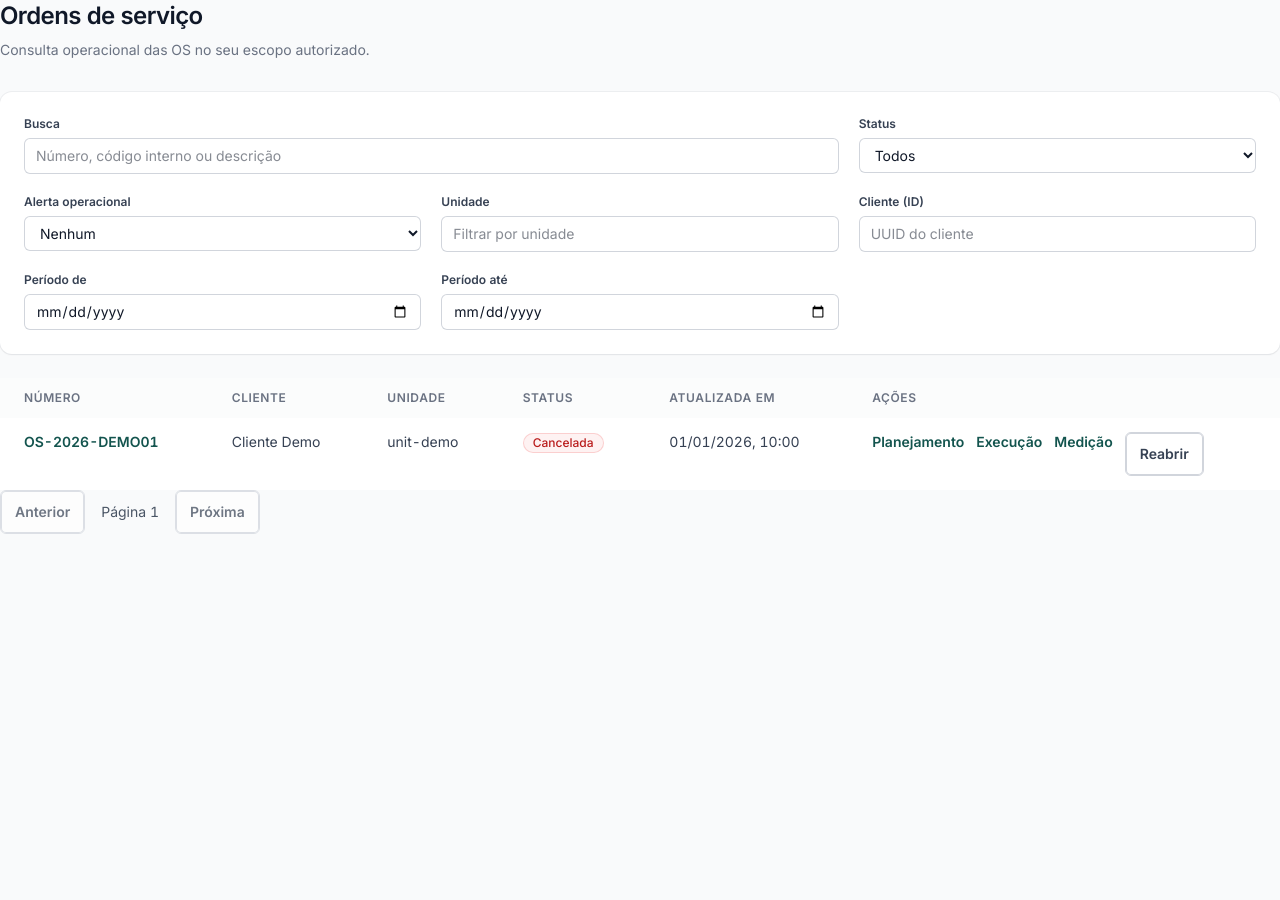
Scenario: ServiceOrdersListPage › reopens a cancelled order back to its previous status
Click the button "Reabrir": coordinates (1164, 454) top-left (1125, 432), bottom-right (1204, 476)
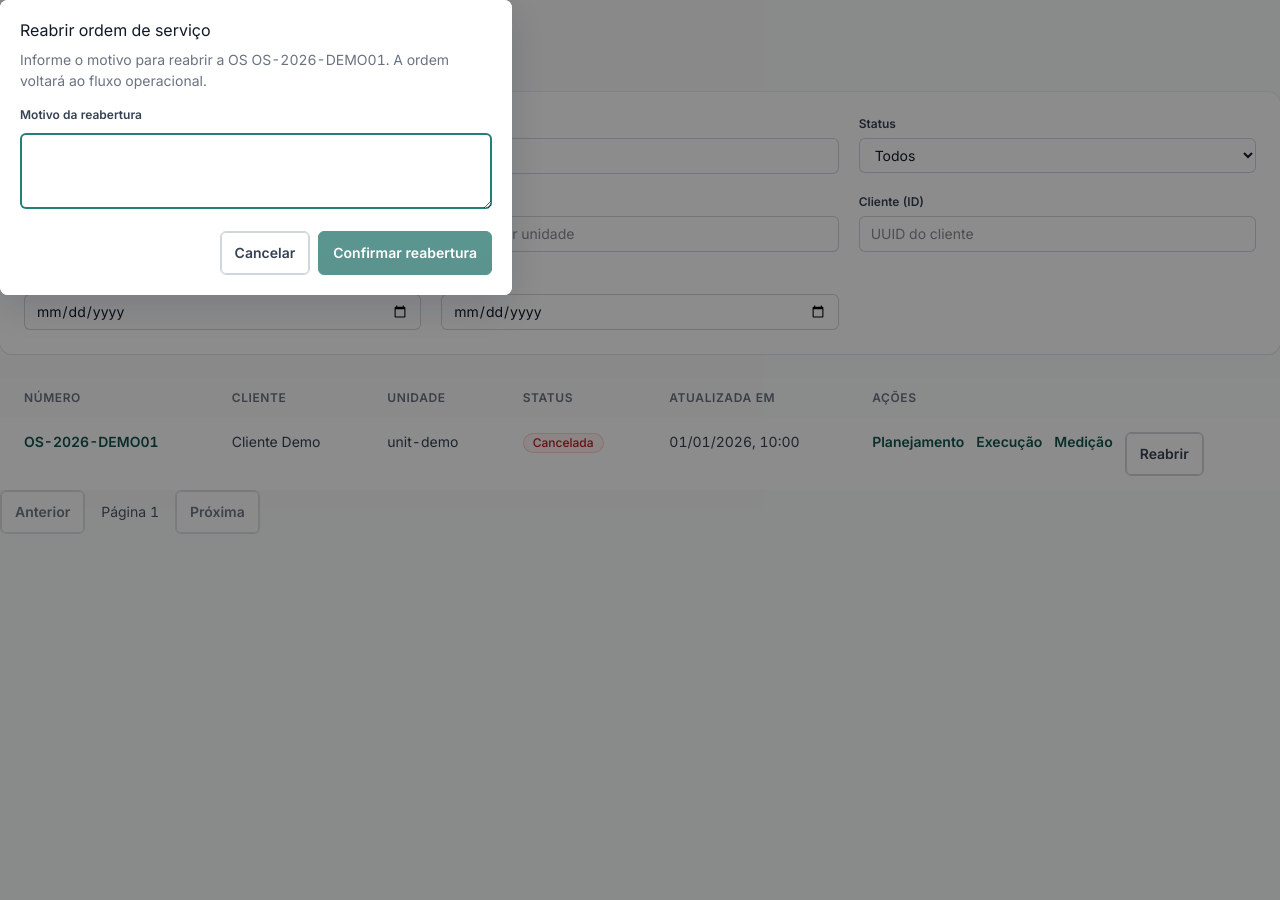
Now the button "Confirmar reabertura" is disabled, box top-left (318, 231), bottom-right (492, 275)
In the text box labelled "Motivo da reabertura": coordinates (256, 171) top-left (20, 133), bottom-right (492, 209), type "Retomada da operação"
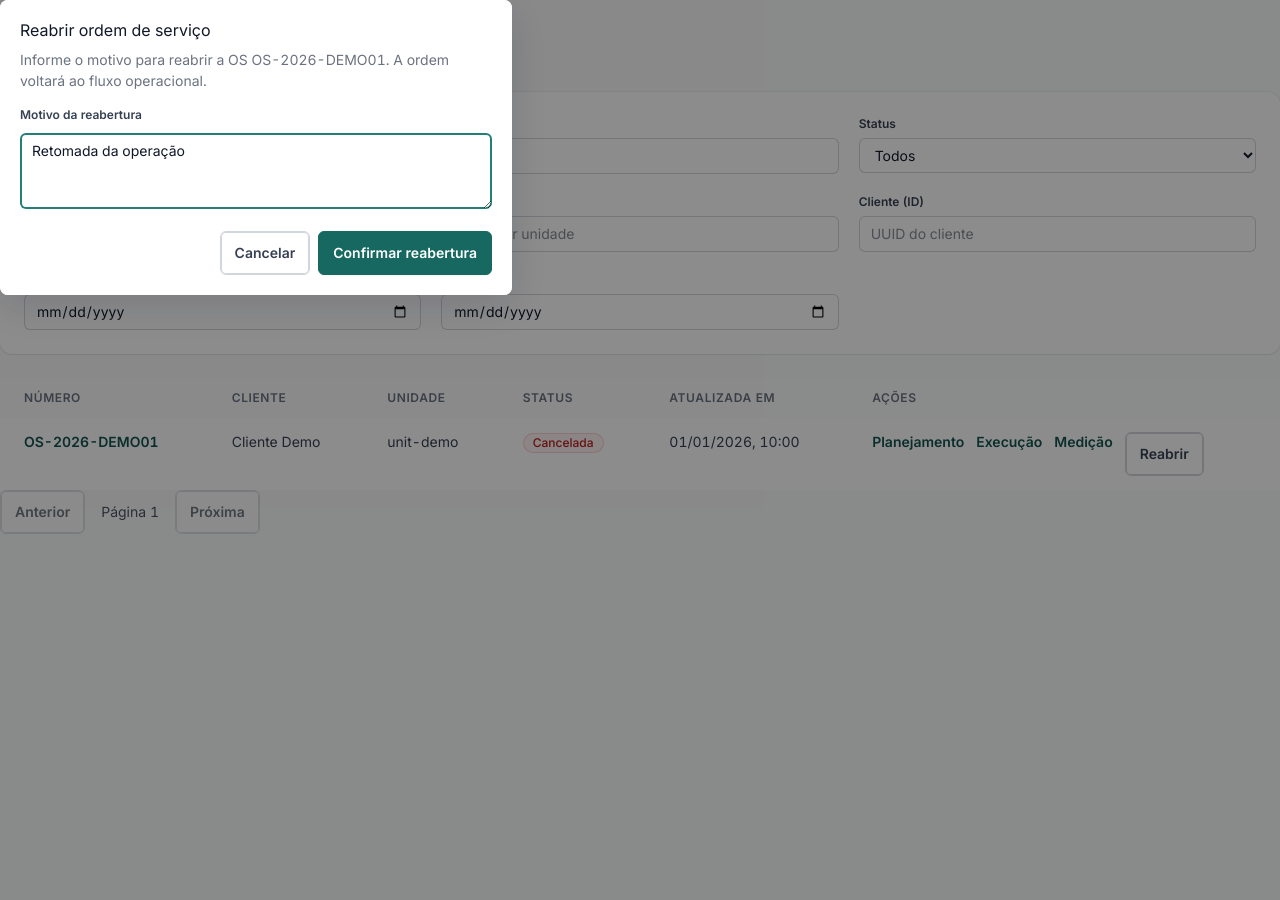
Click the button "Confirmar reabertura": coordinates (405, 253) top-left (318, 231), bottom-right (492, 275)
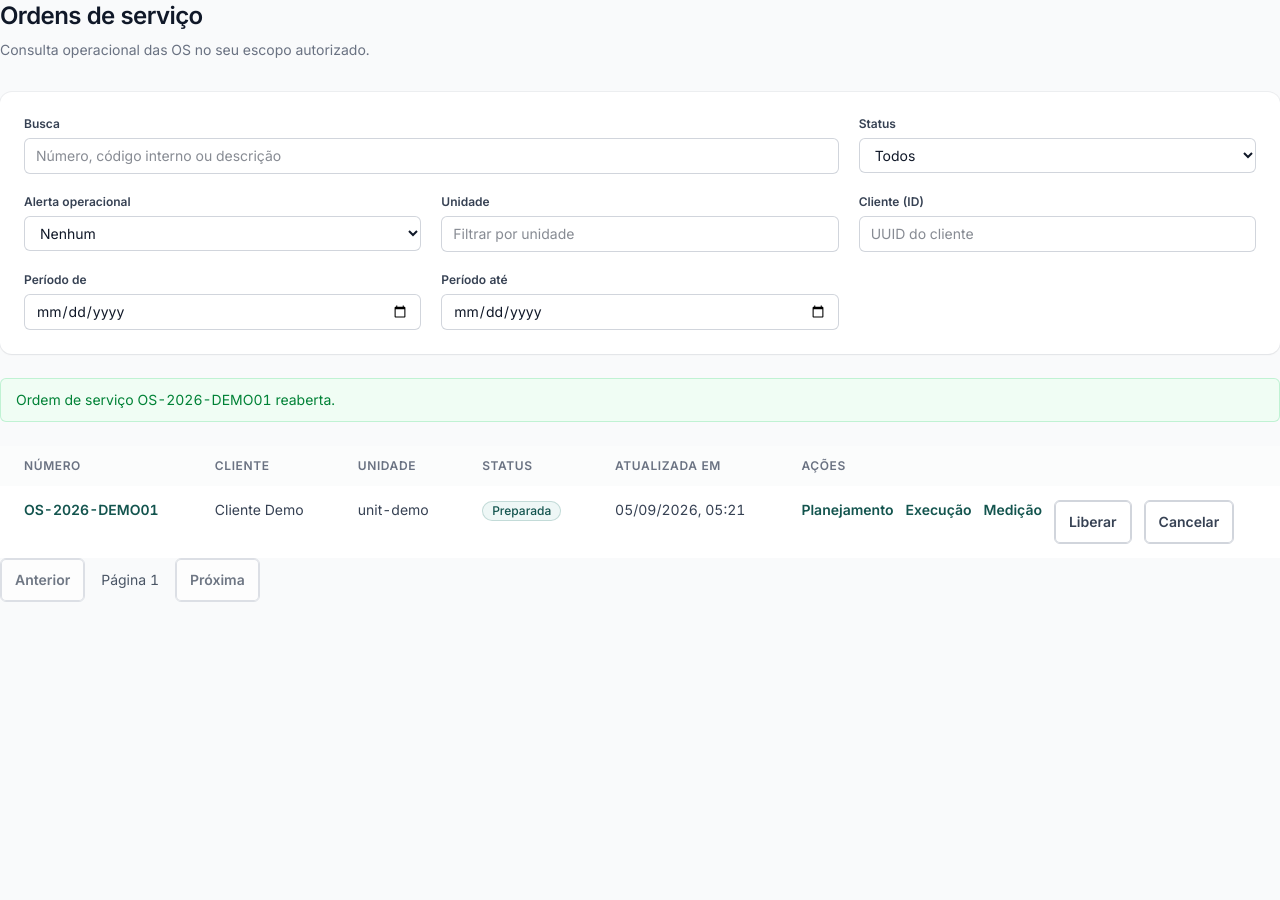
Now the text named "Status: Preparada" is shown, box top-left (482, 501), bottom-right (561, 521)
